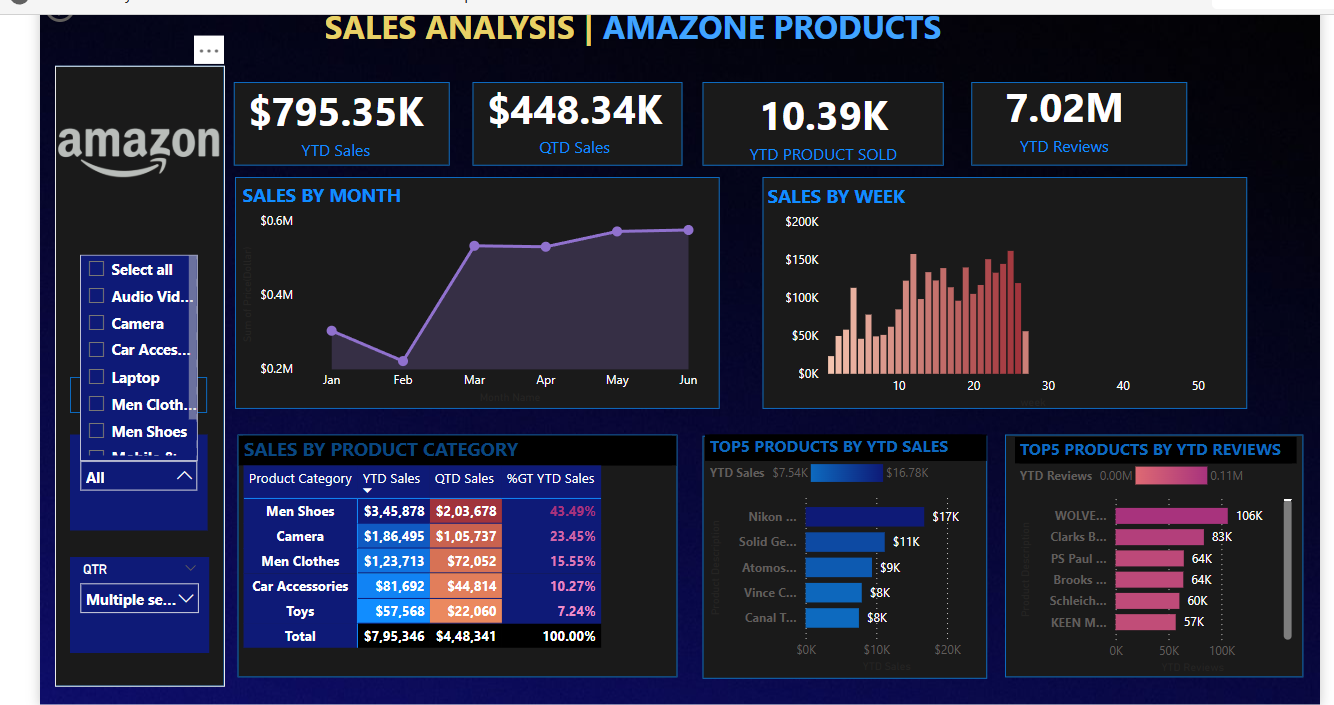

Layout of this report page (visuals, bound fields, positions):
{"tool":"powerbi","page":{"name":"Page 1","canvas":[1280,720],"ordinal":0},"visuals":[{"type":"shape","box":[15.3,79.2,169.4,620.8],"z":0},{"type":"textbox","box":[50,12.5,1190.3,52.8],"z":1000},{"type":"shape","box":[193.8,95,216.2,83.8],"z":2000},{"type":"card","fields":{"Values":["Amazon_Data.YTD Sales"]},"box":[193.8,82.5,205,103.8],"z":3000},{"type":"shape","box":[931.2,95,216.2,83.8],"z":4000},{"type":"shape","box":[662.5,95,241.2,83.8],"z":5000},{"type":"shape","box":[432.5,95,210,83.8],"z":6000},{"type":"card","fields":{"Values":["Amazon_Data.QTD Sales"]},"box":[432.5,80,205,103.8],"z":7000},{"type":"card","fields":{"Values":["Amazon_Data.YTD PRODUCT SOLD"]},"box":[681.2,86.2,205,103.8],"z":8000},{"type":"card","fields":{"Values":["Amazon_Data.YTD Reviews"]},"box":[922.2,79.2,204.2,102.8],"z":9000},{"type":"shape","box":[194.4,190.3,484.7,231.9],"z":10000},{"type":"areaChart","title":"  SALES BY MONTH","fields":{"Category":["Data Table.Month Name"],"Y":["Sum(Amazon_Data.Price(Dollar))"]},"box":[197.2,194.4,484.7,226.4],"z":11000},{"type":"shape","box":[722.2,190.3,484.7,231.9],"z":12000},{"type":"columnChart","title":"SALES BY WEEK","fields":{"Category":["Data Table.week"],"Y":["Sum(Amazon_Data.Price(Dollar))"]},"box":[722.2,195.8,484.7,230.6],"z":13000},{"type":"shape","box":[197.2,447.2,440.3,243.1],"z":14000},{"type":"pivotTable","title":"SALES BY PRODUCT CATEGORY","fields":{"Rows":["Amazon_Data.Product Category"],"Values":["Amazon_Data.YTD Sales","Amazon_Data.QTD Sales","Divide(Amazon_Data.YTD Sales, ScopedEval(Amazon_Data.YTD Sales, []))"]},"box":[198.6,448.6,437.5,243.1],"z":15000},{"type":"actionButton","box":[0,0,100,40],"z":16000},{"type":"shape","box":[662.5,448.6,284.7,243.1],"z":17000},{"type":"shape","box":[965.3,447.2,298.6,243.1],"z":18000},{"type":"clusteredBarChart","title":"TOP5 PRODUCTS BY YTD SALES","fields":{"Category":["Amazon_Data.Product Description"],"Y":["Amazon_Data.YTD Sales"]},"box":[665.3,447.2,281.9,243.1],"z":19000},{"type":"clusteredBarChart","title":"TOP5 PRODUCTS BY YTD REVIEWS","fields":{"Category":["Amazon_Data.Product Description"],"Y":["Amazon_Data.YTD Reviews"]},"box":[975,450,281.9,241.7],"z":20000},{"type":"slicer","fields":{"Values":["Amazon_Data.Product Category"]},"box":[30.6,447.2,137.5,95.8],"z":21000},{"type":"slicer","fields":{"Values":["Data Table.qtr"]},"box":[30.6,569.4,138.9,95.8],"z":22000},{"type":"image","box":[4.2,19.4,194.4,300],"z":23000},{"type":"shape","box":[30.6,390.3,137.5,36.1],"z":24000}]}

Visuals, with their boxes on the page's 1280x720 design canvas (x1, y1, x2, y2). These are canvas units, not pixel positions in the 1334x705 screenshot, which may show the page scaled, cropped or inside an application window:
shape: [15,79,185,700]
textbox: [50,12,1240,65]
shape: [194,95,410,179]
card - Amazon_Data.YTD Sales: [194,82,399,186]
shape: [931,95,1147,179]
shape: [662,95,904,179]
shape: [432,95,642,179]
card - Amazon_Data.QTD Sales: [432,80,638,184]
card - Amazon_Data.YTD PRODUCT SOLD: [681,86,886,190]
card - Amazon_Data.YTD Reviews: [922,79,1126,182]
shape: [194,190,679,422]
"  SALES BY MONTH" areaChart: [197,194,682,421]
shape: [722,190,1207,422]
"SALES BY WEEK" columnChart: [722,196,1207,426]
shape: [197,447,638,690]
"SALES BY PRODUCT CATEGORY" pivotTable: [199,449,636,692]
actionButton: [0,0,100,40]
shape: [662,449,947,692]
shape: [965,447,1264,690]
"TOP5 PRODUCTS BY YTD SALES" clusteredBarChart: [665,447,947,690]
"TOP5 PRODUCTS BY YTD REVIEWS" clusteredBarChart: [975,450,1257,692]
slicer - Amazon_Data.Product Category: [31,447,168,543]
slicer - Data Table.qtr: [31,569,170,665]
image: [4,19,199,319]
shape: [31,390,168,426]
